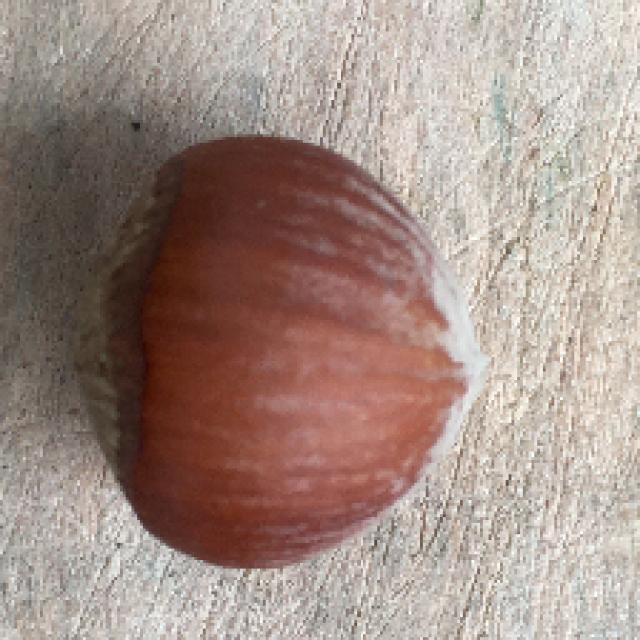QualityHazelnut: (73, 127, 491, 567)
